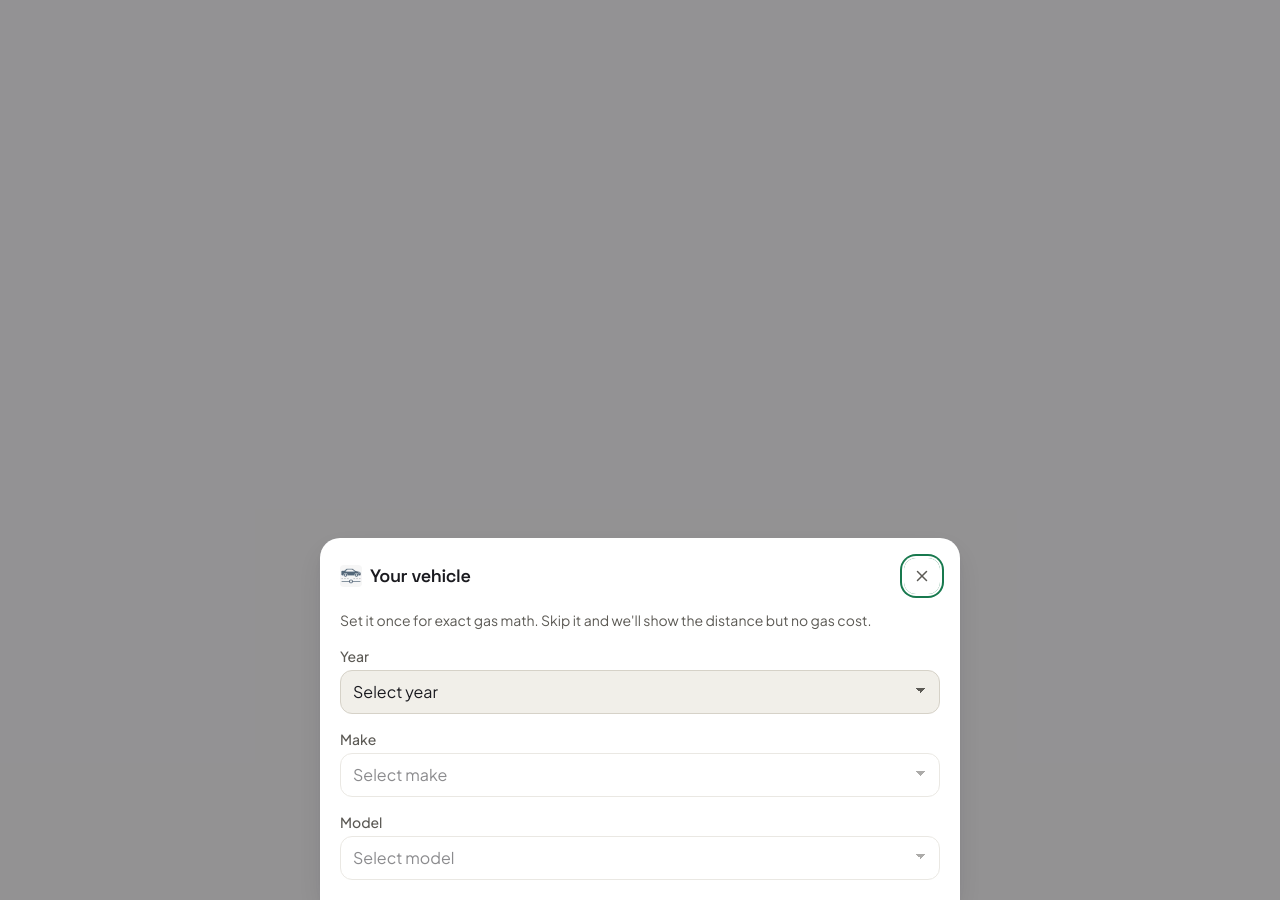
VehicleSelector (bottom sheet) › cascades: year enables makes, make enables models
Select "2019" in the dropdown labelled "Year" at coordinates (640, 692), box top-left (340, 670), bottom-right (940, 714)
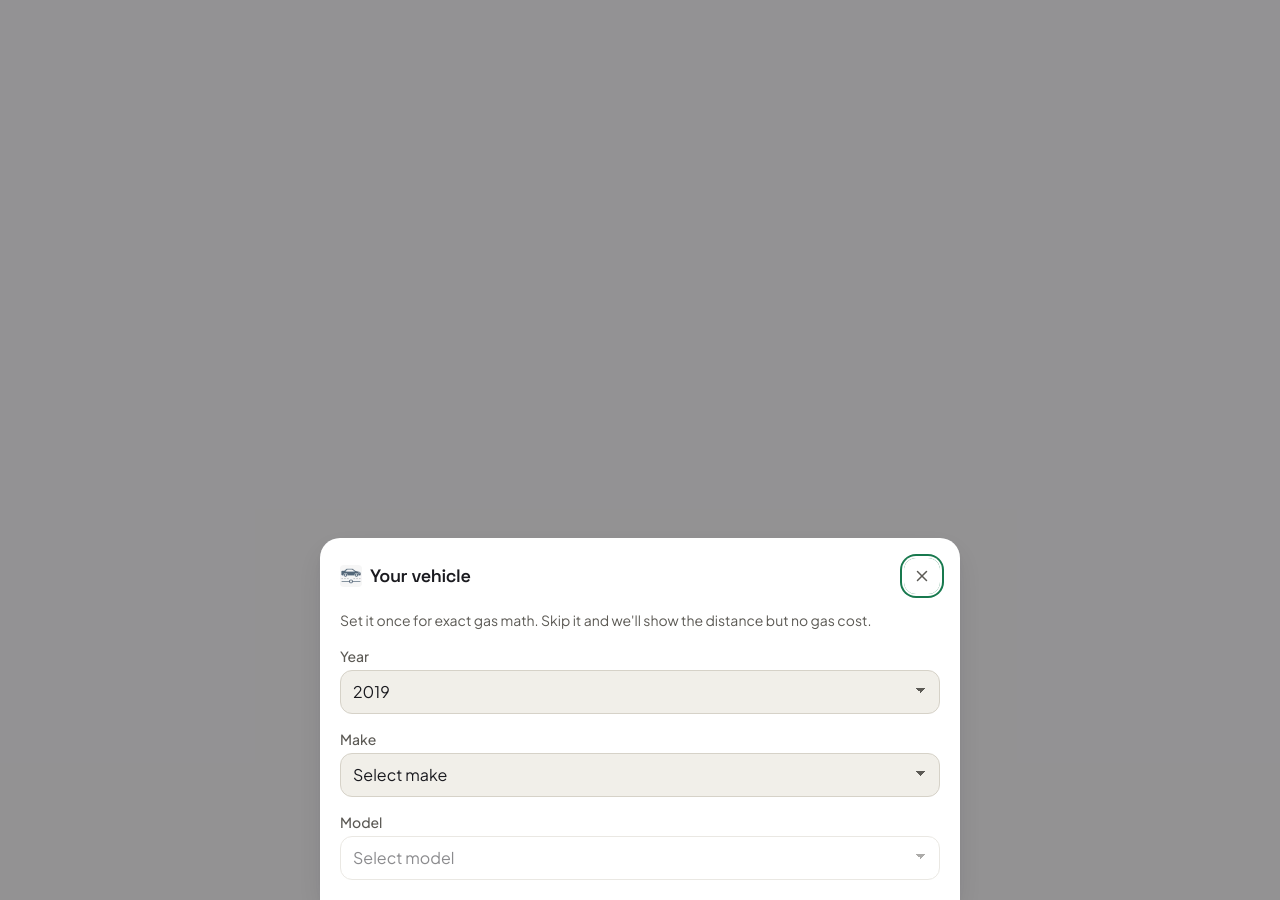
Now the dropdown labelled "Make" is enabled
Select "Toyota" in the dropdown labelled "Make" at coordinates (640, 775), box top-left (340, 753), bottom-right (940, 797)
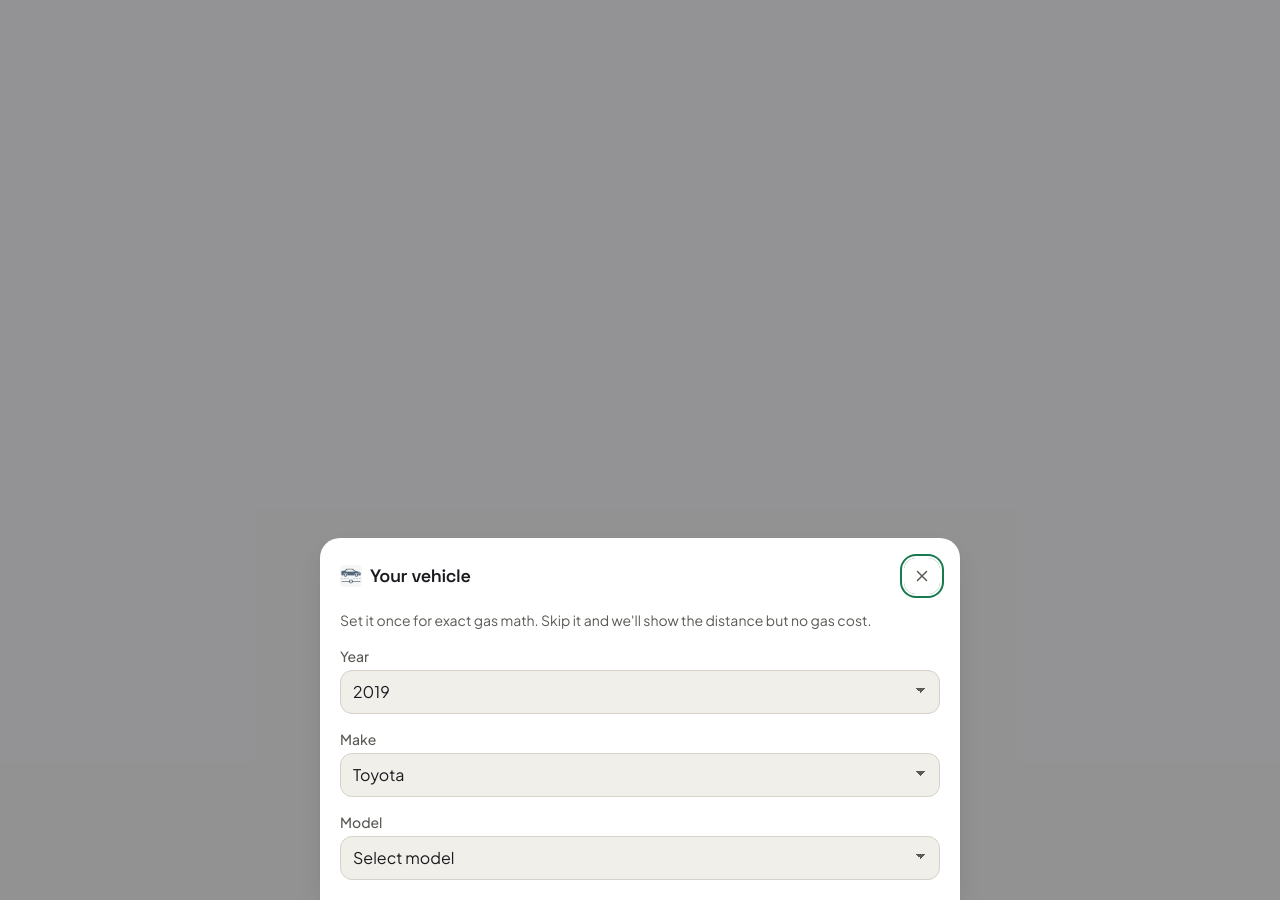
Now the dropdown labelled "Model" is enabled, box top-left (340, 836), bottom-right (940, 880)
